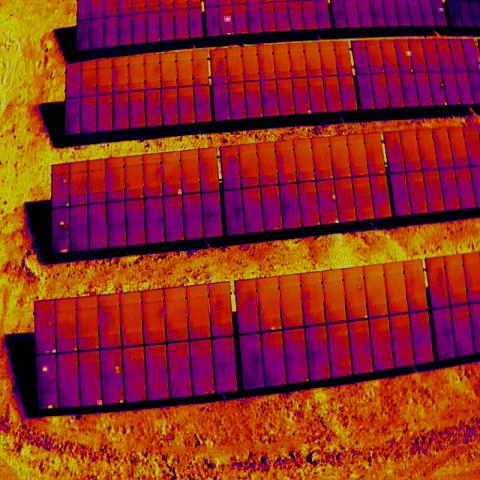fault: (42, 366, 49, 373), (60, 248, 68, 254), (224, 16, 231, 22), (304, 377, 310, 383), (456, 100, 462, 106), (142, 397, 148, 403), (97, 400, 103, 406), (53, 405, 59, 410), (119, 399, 125, 404), (334, 219, 340, 224), (62, 225, 68, 230), (440, 82, 445, 88), (406, 51, 412, 56), (357, 285, 362, 290), (332, 195, 337, 200), (52, 349, 58, 353), (47, 405, 53, 409), (270, 326, 276, 330), (178, 189, 182, 195), (63, 178, 67, 184), (410, 68, 414, 74), (226, 32, 232, 36), (438, 8, 444, 12), (386, 105, 392, 109), (45, 350, 51, 354), (73, 347, 78, 351), (364, 314, 368, 319), (316, 221, 321, 225), (444, 101, 448, 106), (116, 370, 120, 374), (116, 365, 120, 369), (65, 203, 69, 207), (60, 221, 64, 225), (444, 23, 448, 27), (308, 110, 312, 114)
